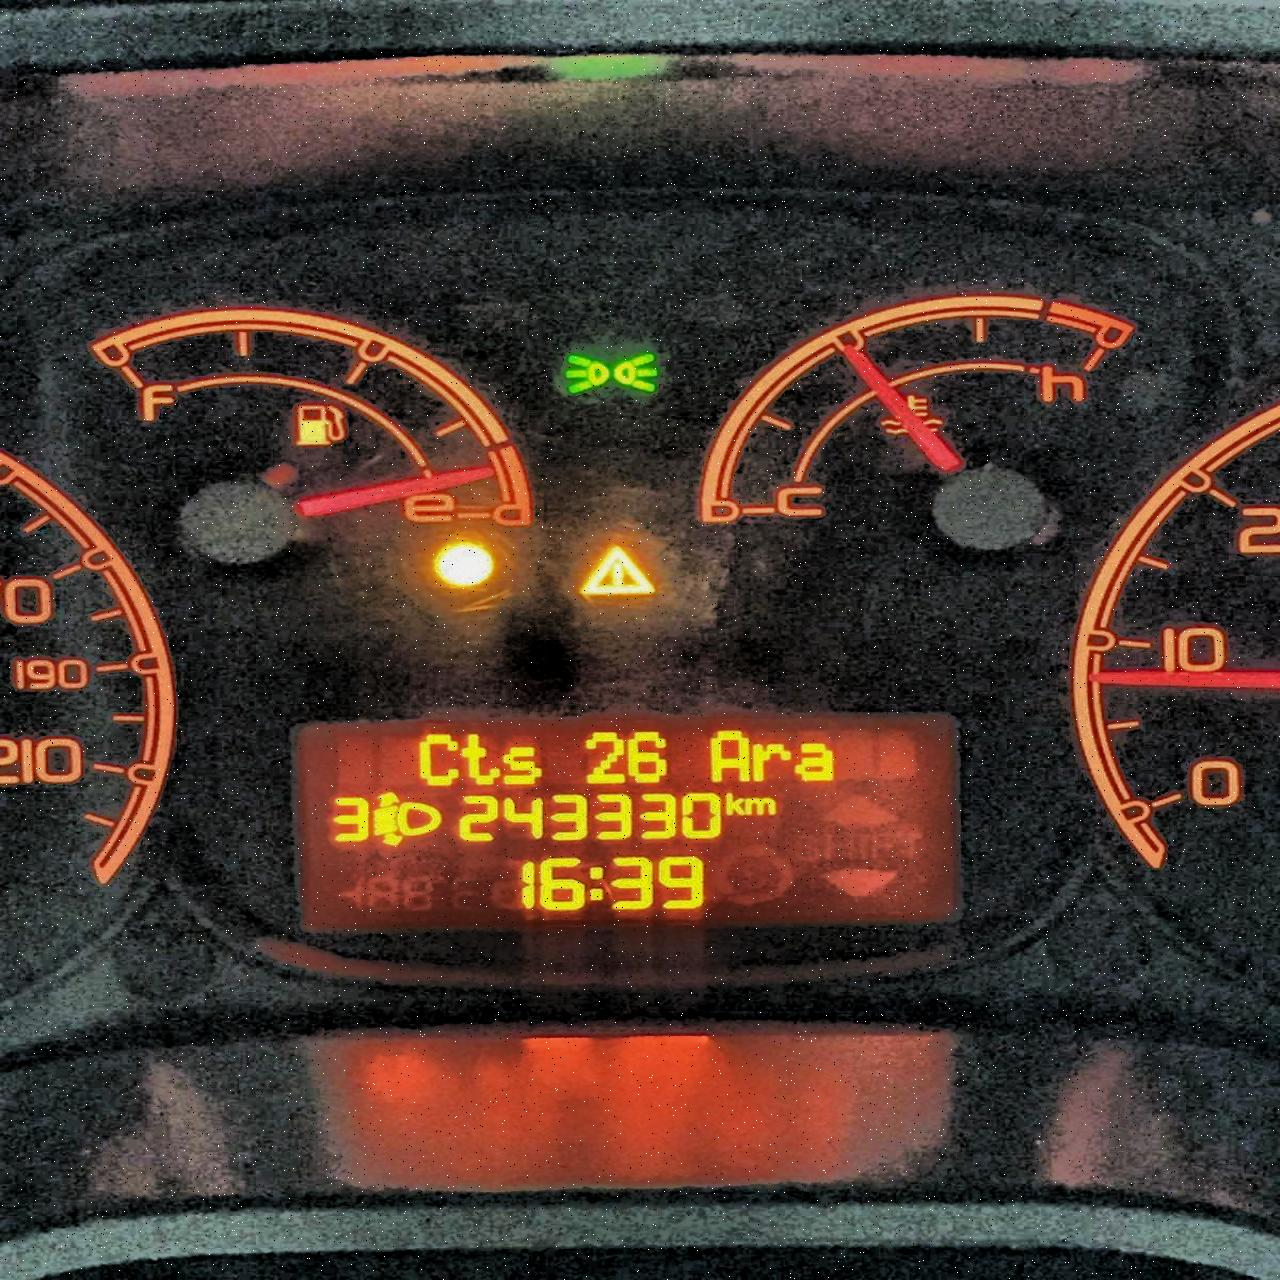0: (679, 790, 727, 840)
1: (517, 855, 537, 911)
2: (584, 727, 626, 785), (456, 791, 499, 840)
3: (610, 853, 654, 912), (327, 794, 373, 844), (550, 790, 588, 840), (595, 791, 634, 840), (641, 791, 675, 840)
4: (504, 794, 545, 840)
6: (538, 856, 584, 912), (626, 728, 669, 783)
9: (658, 853, 707, 911)
X: (707, 727, 753, 783), (415, 731, 458, 785), (461, 731, 502, 785), (502, 743, 542, 784), (751, 737, 789, 781), (797, 741, 835, 782), (585, 864, 606, 903), (744, 794, 775, 816), (721, 791, 744, 816)
odometer: (293, 722, 956, 925)
